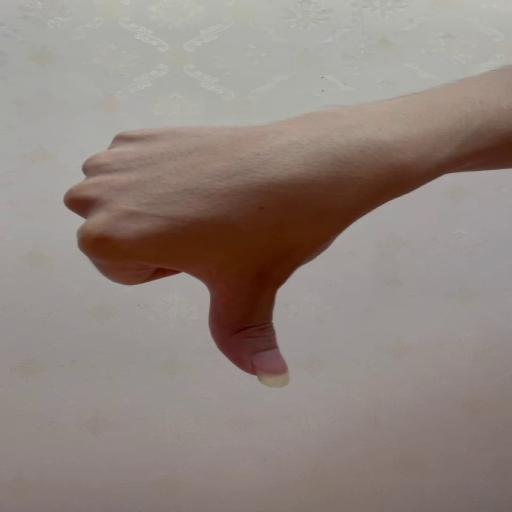thumbs_down: (62, 122, 414, 390)
